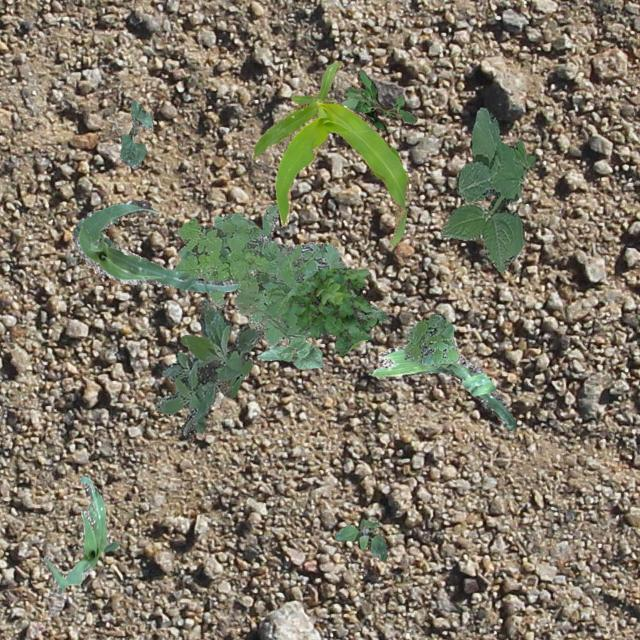crop: (250, 59, 408, 244), (70, 198, 240, 292), (371, 344, 515, 430), (42, 476, 118, 592), (120, 99, 152, 168), (256, 336, 324, 368)
weed: (174, 202, 386, 346), (440, 106, 534, 272), (154, 298, 264, 434), (282, 266, 378, 354), (340, 68, 416, 130), (402, 312, 457, 366), (334, 518, 386, 560)
